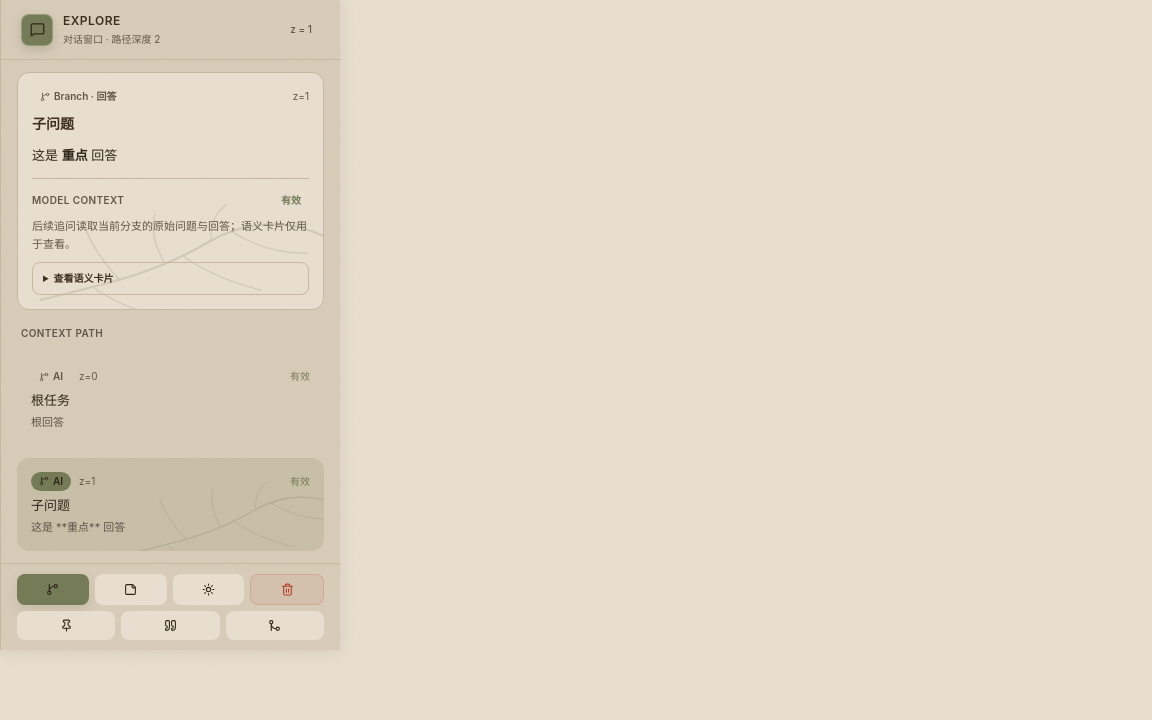
Scenario: InspectorSidebar › prune opens a confirm dialog outside the aside and prunes on confirm
The width and height of the screenshot is (1152, 720).
Click the 4th button named "修剪". click: (287, 589)
box: [250,574,324,605]
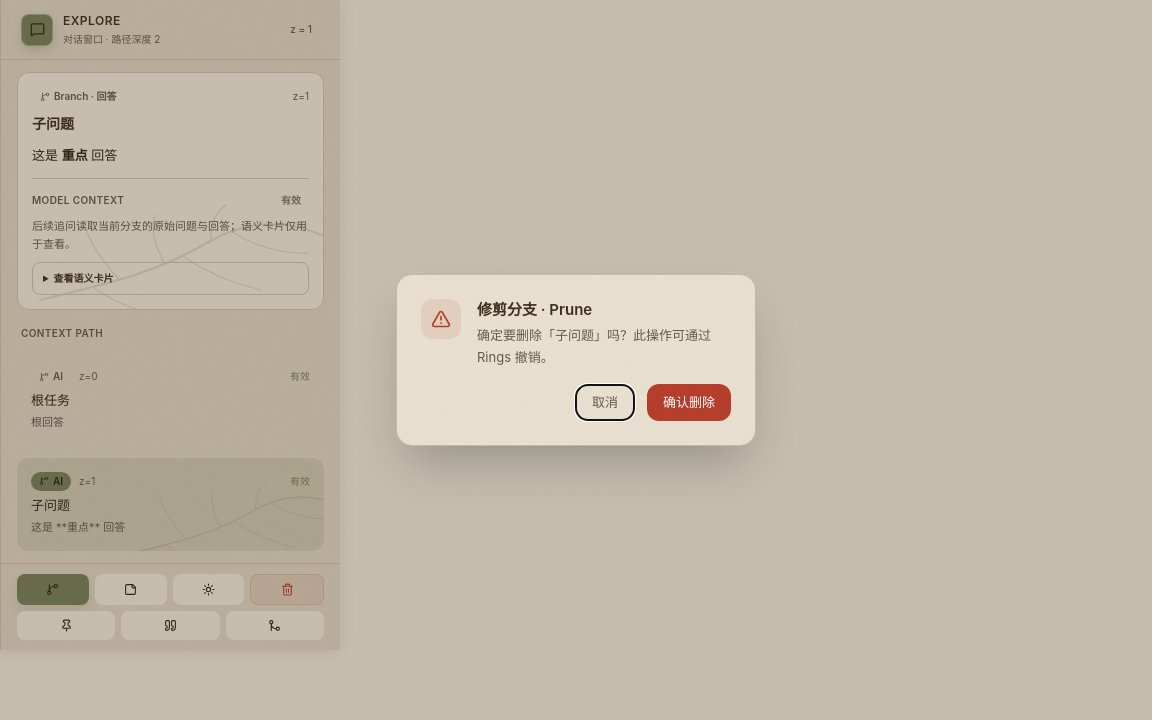
Result: the text "确定要删除「子问题」吗？此操作可通过 Rings 撤销。" is shown at [477,325,731,368]
Click the button "确认删除". click: (689, 402)
box: [647,384,731,421]
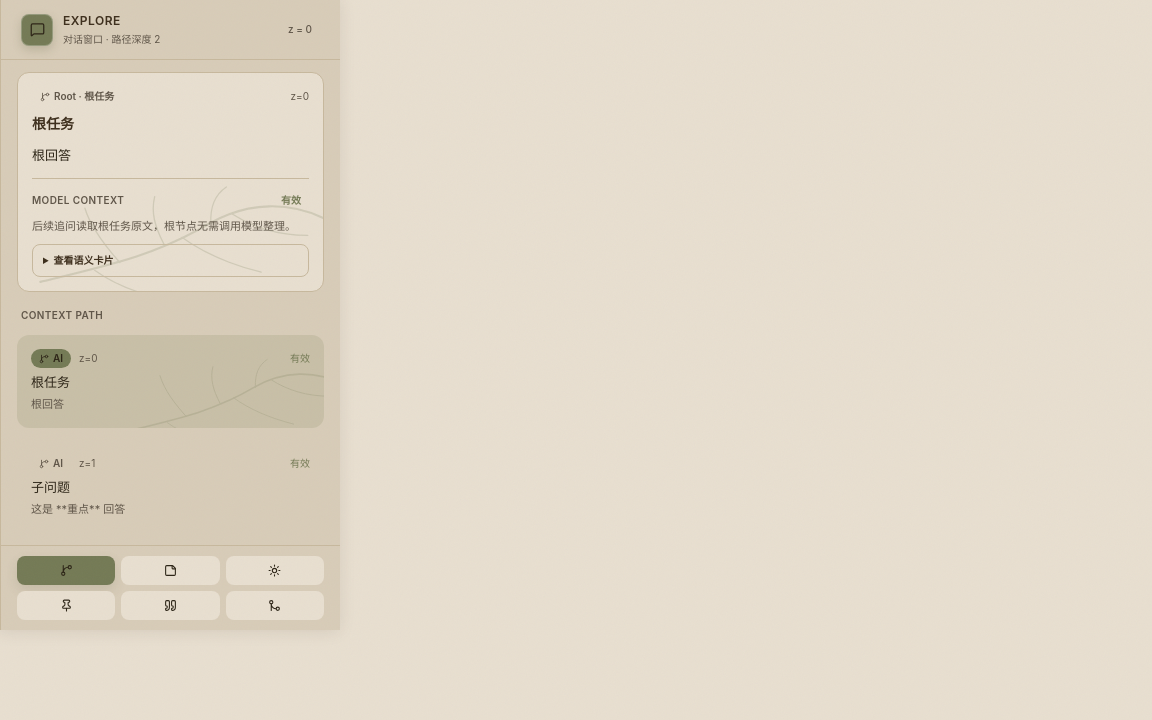
Result: the heading "修剪分支 · Prune" is gone
Result: the heading "修剪" is gone
